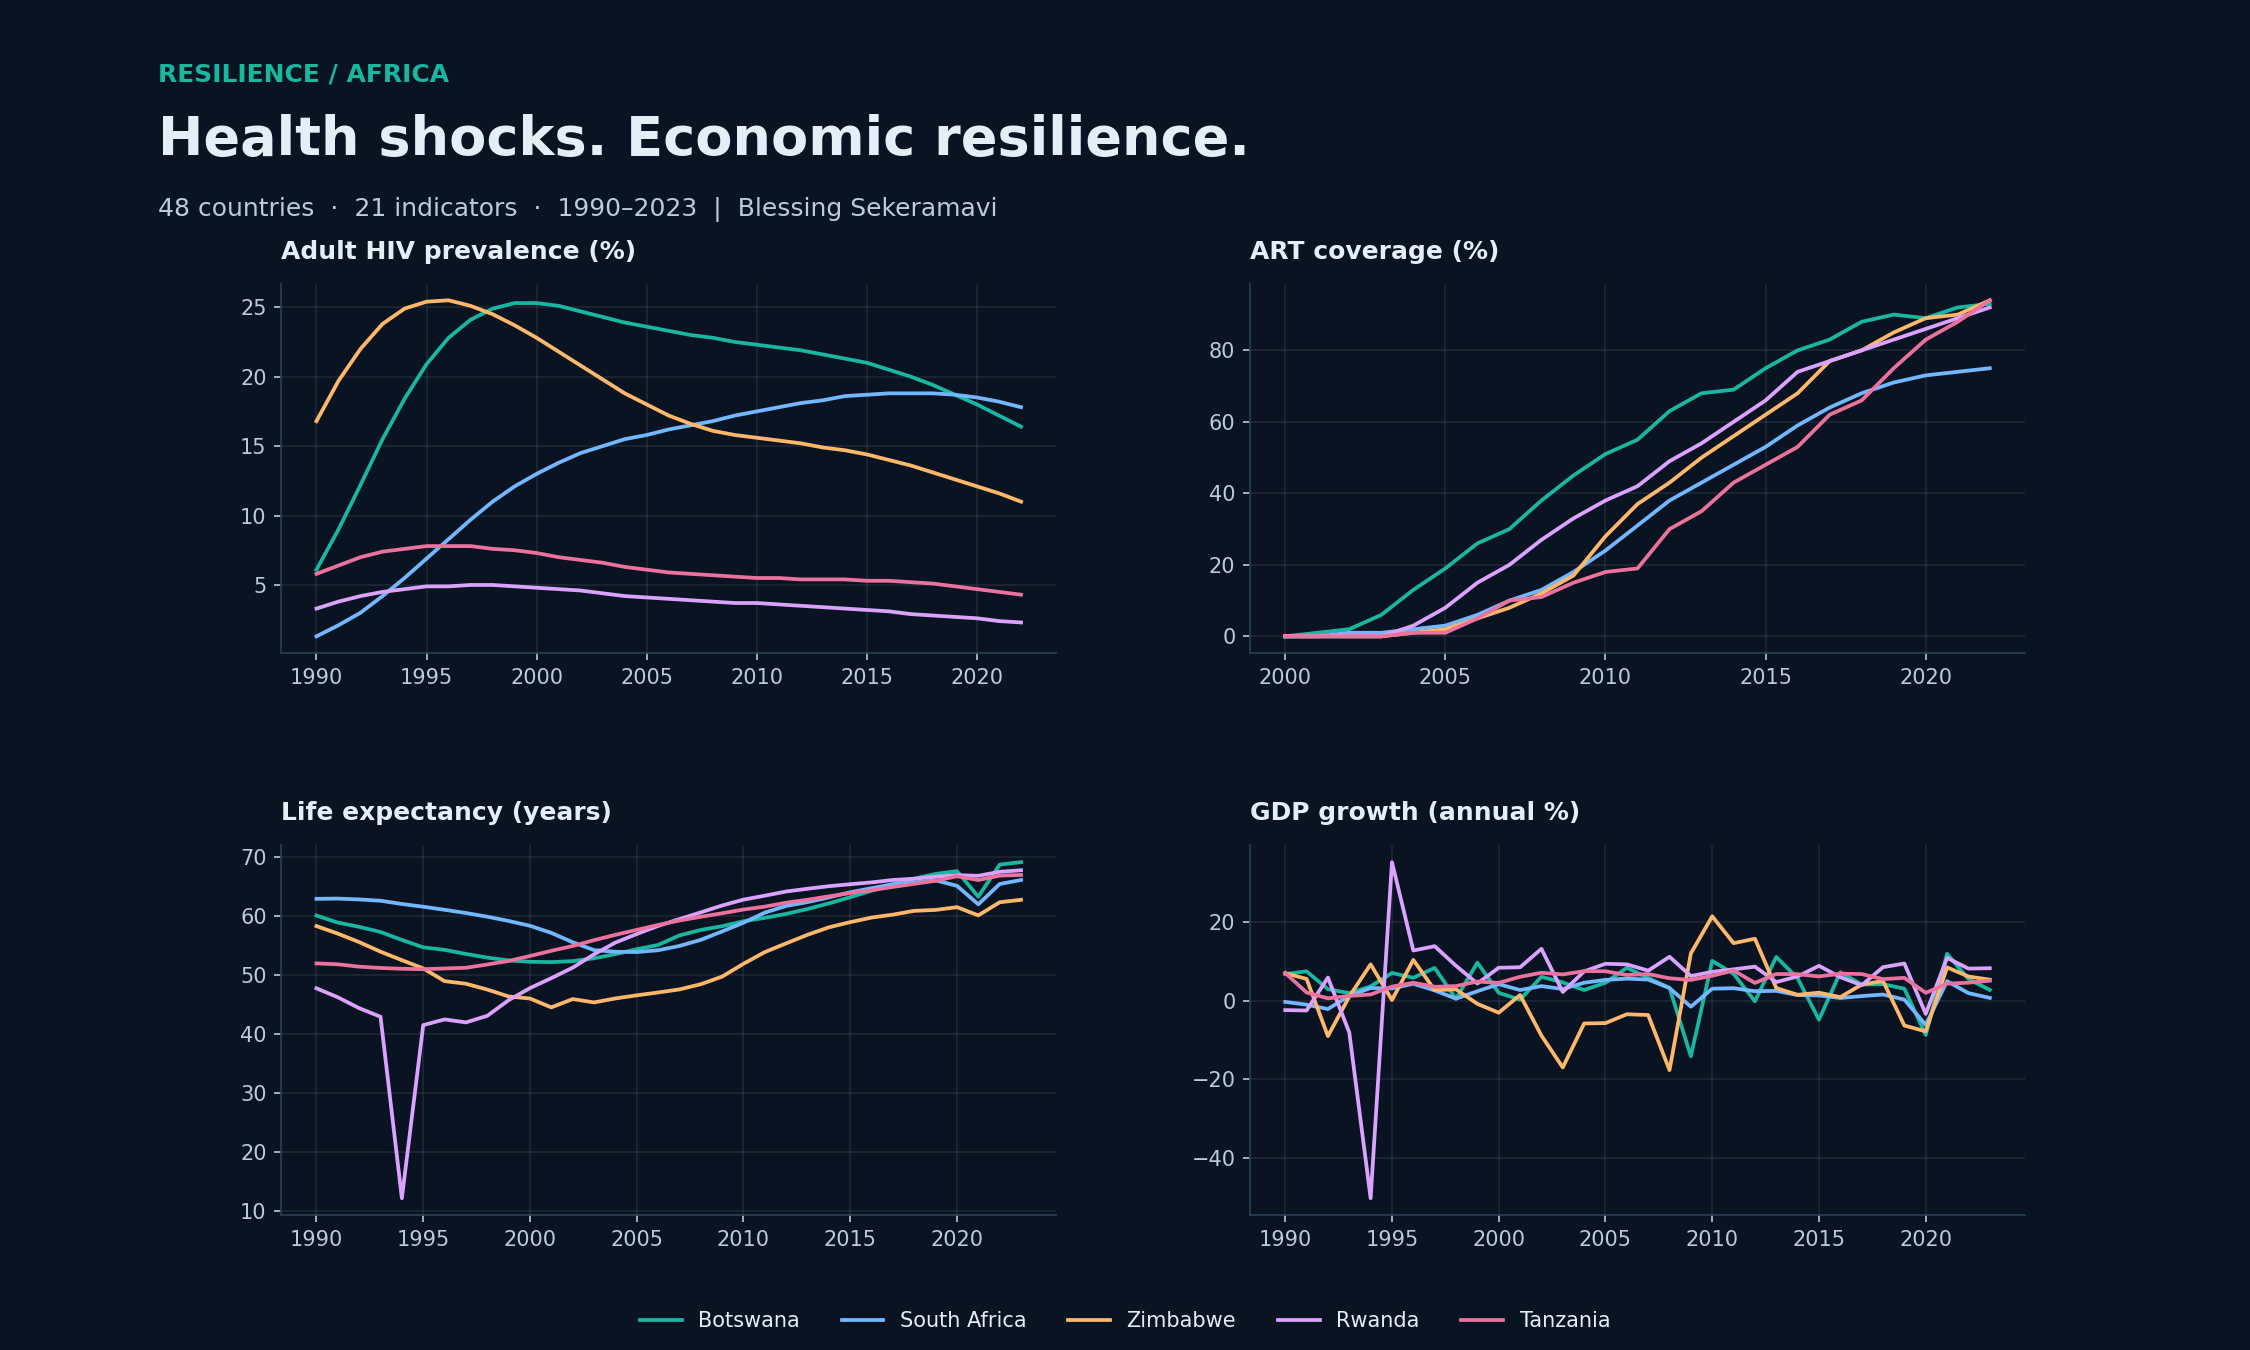

What the dashboard file says about the page in this screenshot:
{"tool":"powerbi","page":{"name":"Page 2","canvas":[1280,720],"ordinal":1},"visuals":[{"type":"scriptVisual","fields":{"Values":["Cleaned_Data_for_PowerBI.Country Name","Cleaned_Data_for_PowerBI.Series Name","Cleaned_Data_for_PowerBI.Value","Cleaned_Data_for_PowerBI.Year"]},"box":[0,0,1279.5,720.6],"z":0}]}

Visuals, with their boxes on the page's 1280x720 design canvas (x1, y1, x2, y2). These are canvas units, not pixel positions in the 2250x1350 screenshot, which may show the page scaled, cropped or inside an application window:
scriptVisual - Cleaned_Data_for_PowerBI.Country Name x Cleaned_Data_for_PowerBI.Series Name: [0,0,1280,721]
